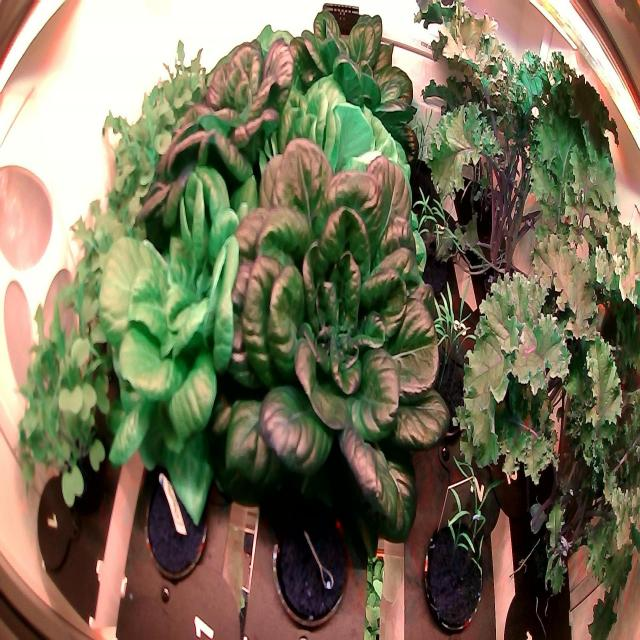Ready: (196, 134, 464, 558), (88, 166, 258, 522), (235, 62, 429, 289), (132, 29, 298, 257), (265, 0, 423, 178)
pod: (272, 481, 356, 630), (140, 458, 219, 583)
